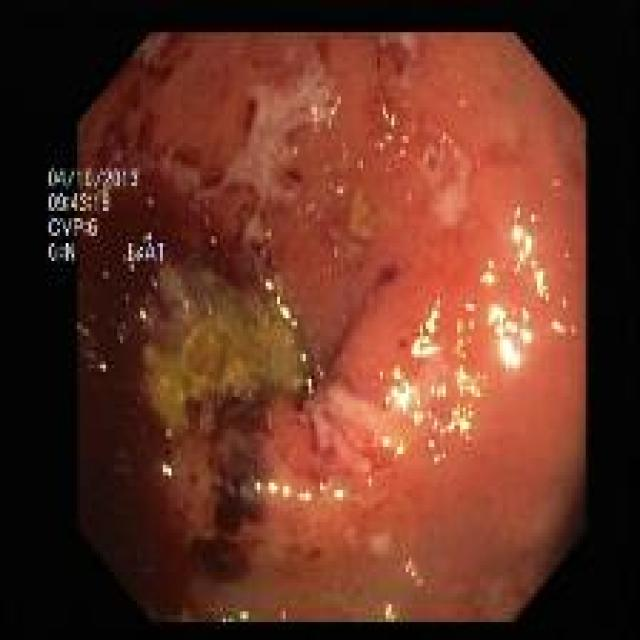ulcerative-colitis: (59, 33, 584, 622)
